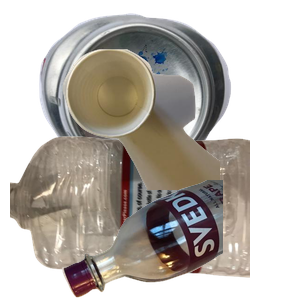glass: (60, 180, 300, 300)
metal: (37, 11, 261, 180)
plastic: (10, 134, 250, 300)
trash: (60, 47, 300, 227)
